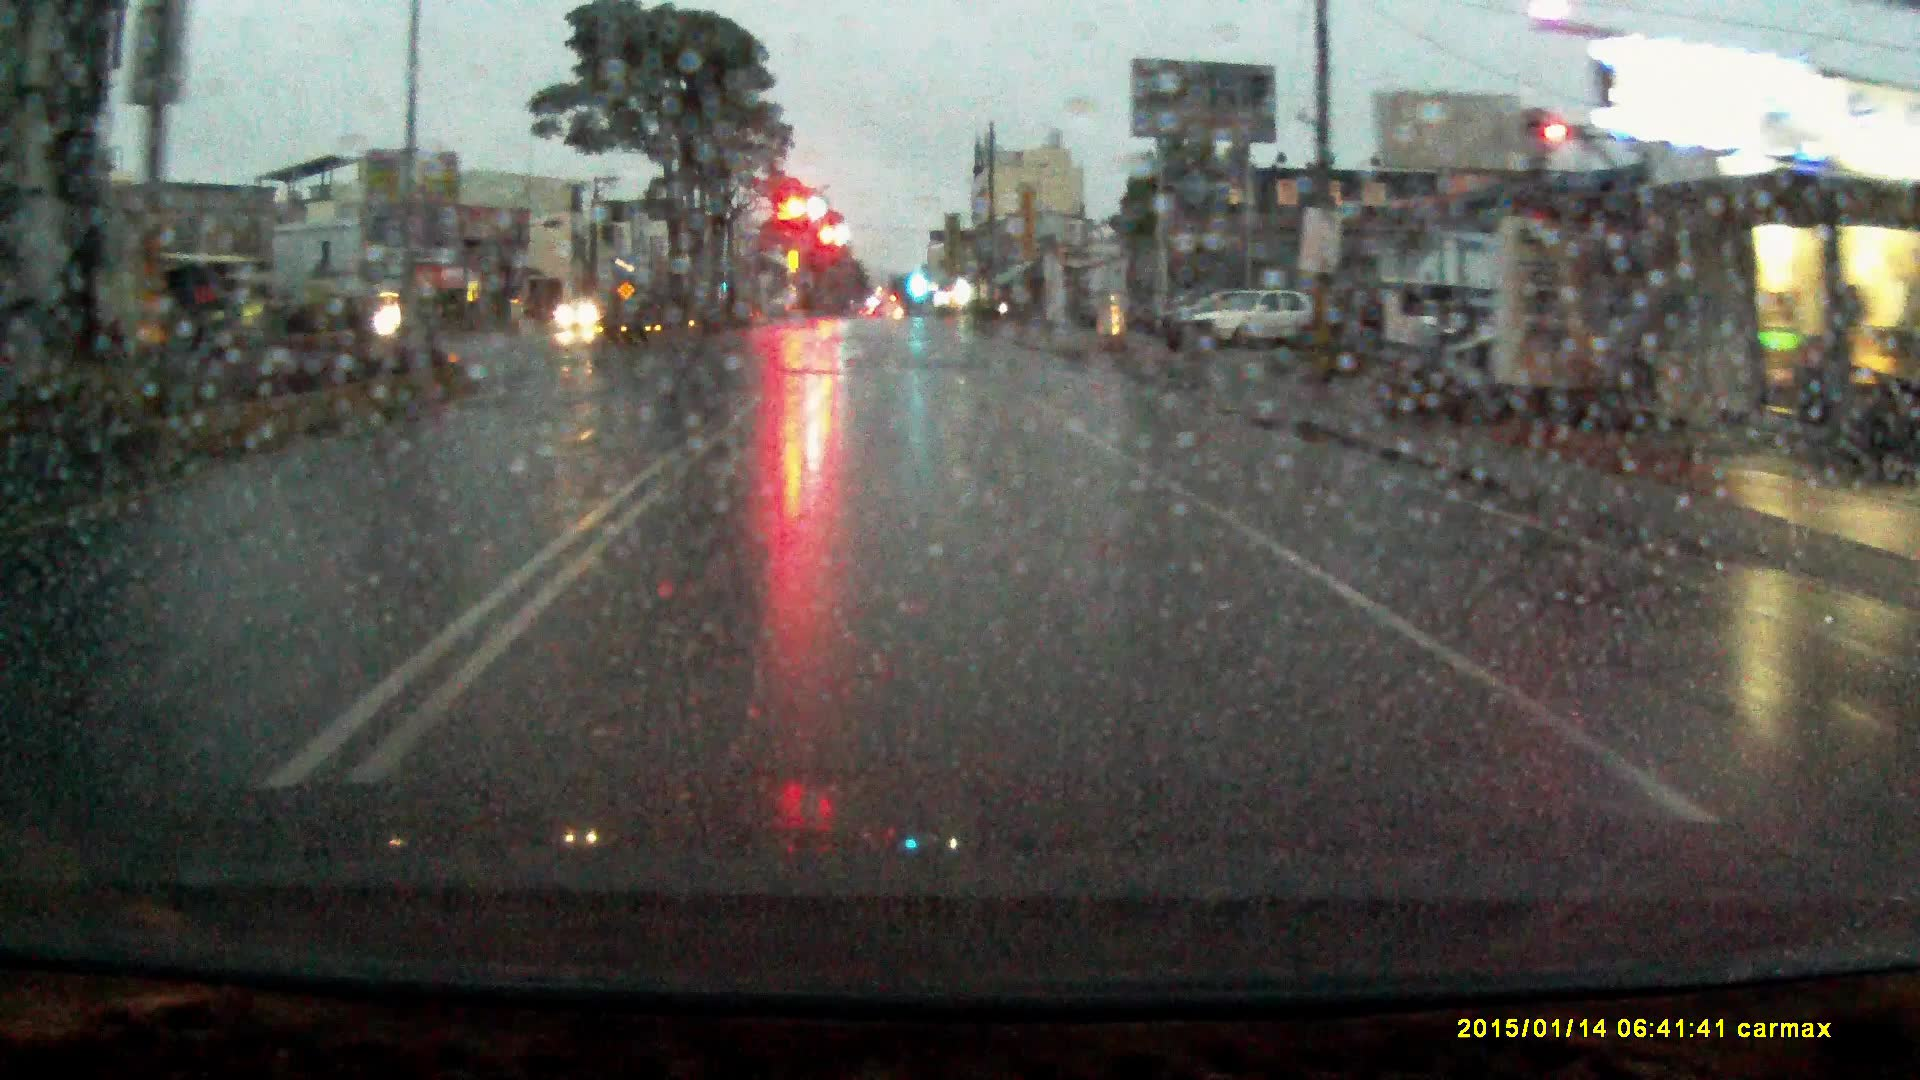vehicle: (1189, 284, 1333, 349), (1156, 293, 1247, 353), (556, 295, 608, 331)
